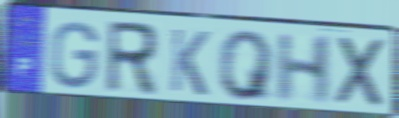G: (48, 19, 101, 91)
H: (274, 32, 335, 106)
K: (167, 26, 211, 99)
Q: (218, 29, 277, 103)
R: (103, 19, 159, 99)
X: (335, 34, 390, 111)
